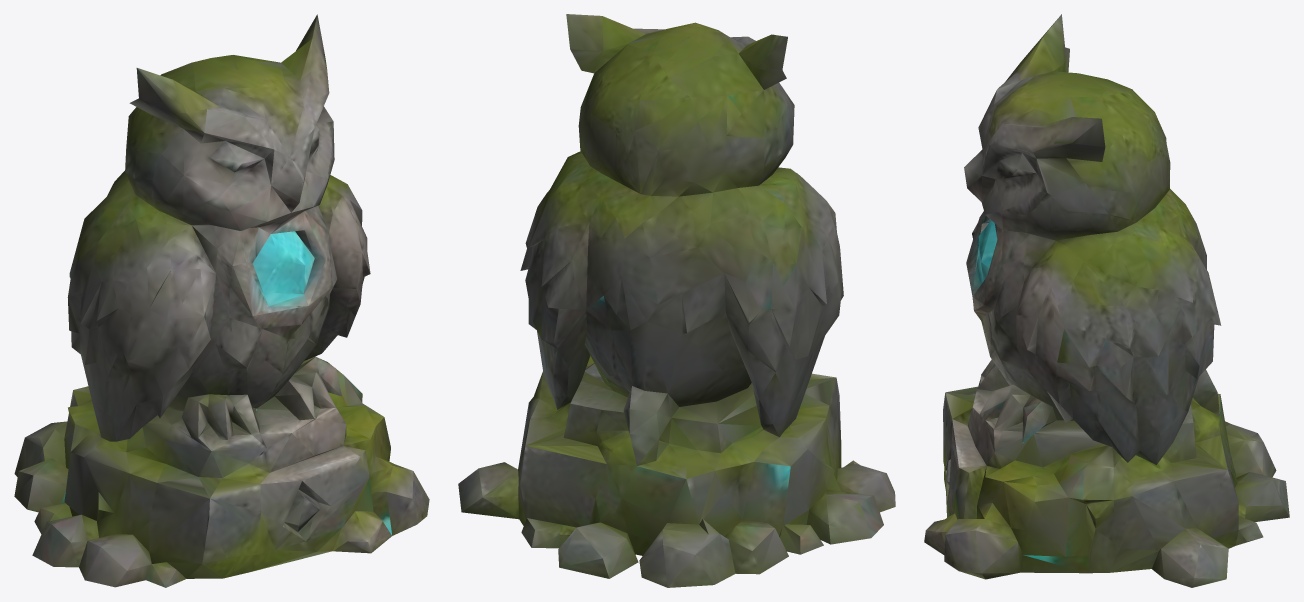
Rendered from estatua_piedra_1500.glb.
The picture shows the model from 3 angles, left to right: view 1: azimuth 30°, elevation 25°; view 2: azimuth 150°, elevation 25°; view 3: azimuth 270°, elevation 25°; orthographic projection. The views are drawn at different scales.
Parts seen in each view (by area): view 1: estatua_piedra_malla; view 2: estatua_piedra_malla; view 3: estatua_piedra_malla.
Part boxes in pixels (<box>): estatua_piedra_malla: <box>14,14,429,587</box>; estatua_piedra_malla: <box>458,14,895,587</box>; estatua_piedra_malla: <box>924,14,1289,587</box>.
Size of the model in its own units: 0.2886 by 0.367 by 0.2686.
Materials: 1 (1 with a texture image).
